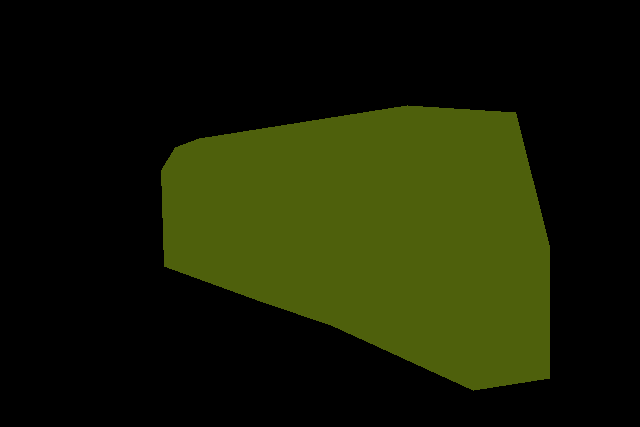Train: (161, 105, 550, 390)
